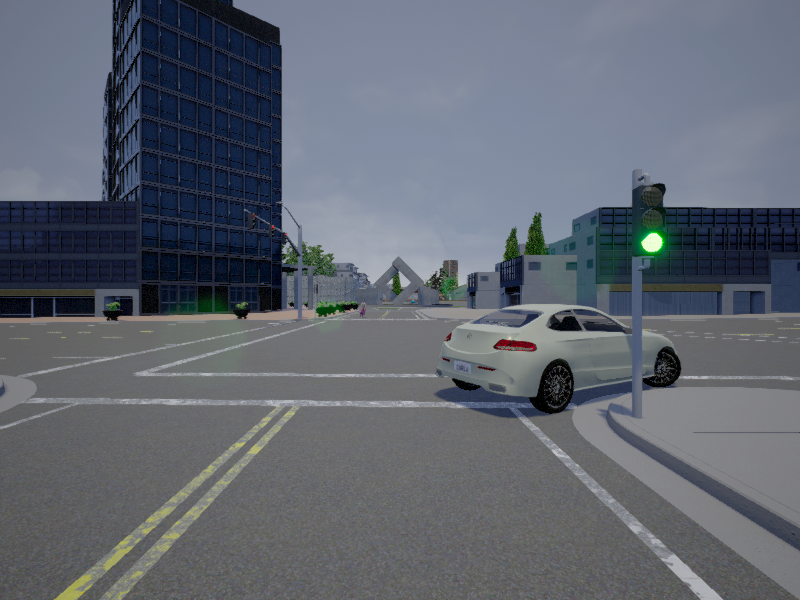Benign: (439, 303, 681, 409)
